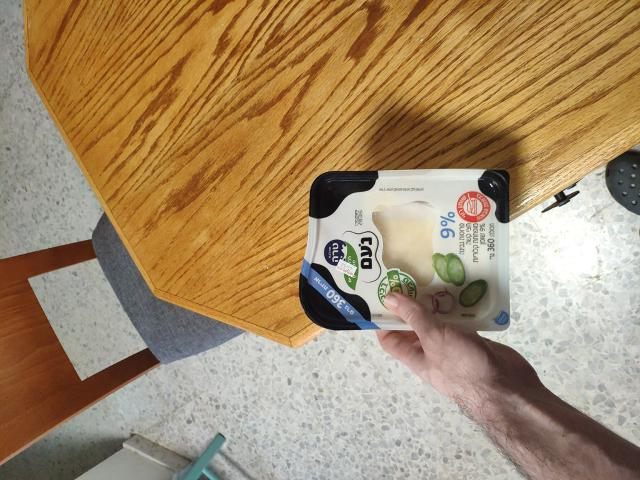cheese: (298, 170, 522, 342)
